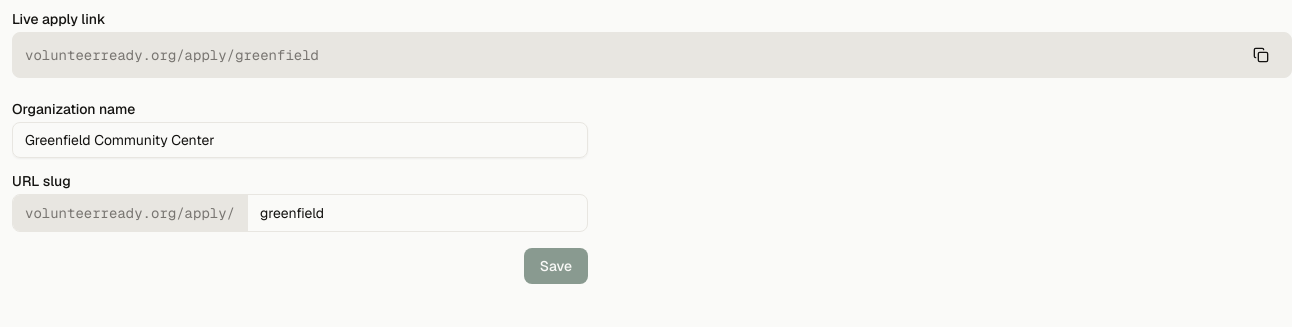
OrgProfileForm › shows the reserved-slug error inline and keeps Save disabled
Replace the text in the field labelled "URL slug" with "status" at (418, 213), box x1=248 y1=195 x2=587 y2=231
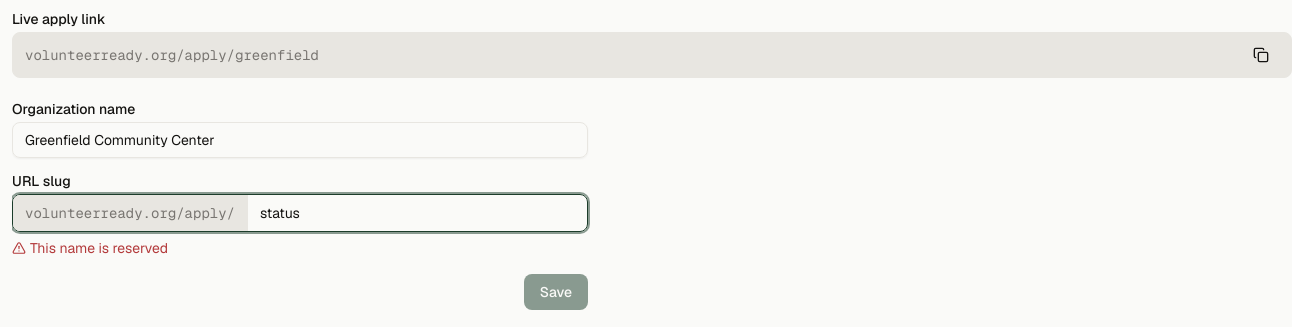
Expected: the button "Save" is disabled, x1=524 y1=274 x2=588 y2=310
Now the text "This name is reserved" is shown, box x1=12 y1=239 x2=168 y2=257
